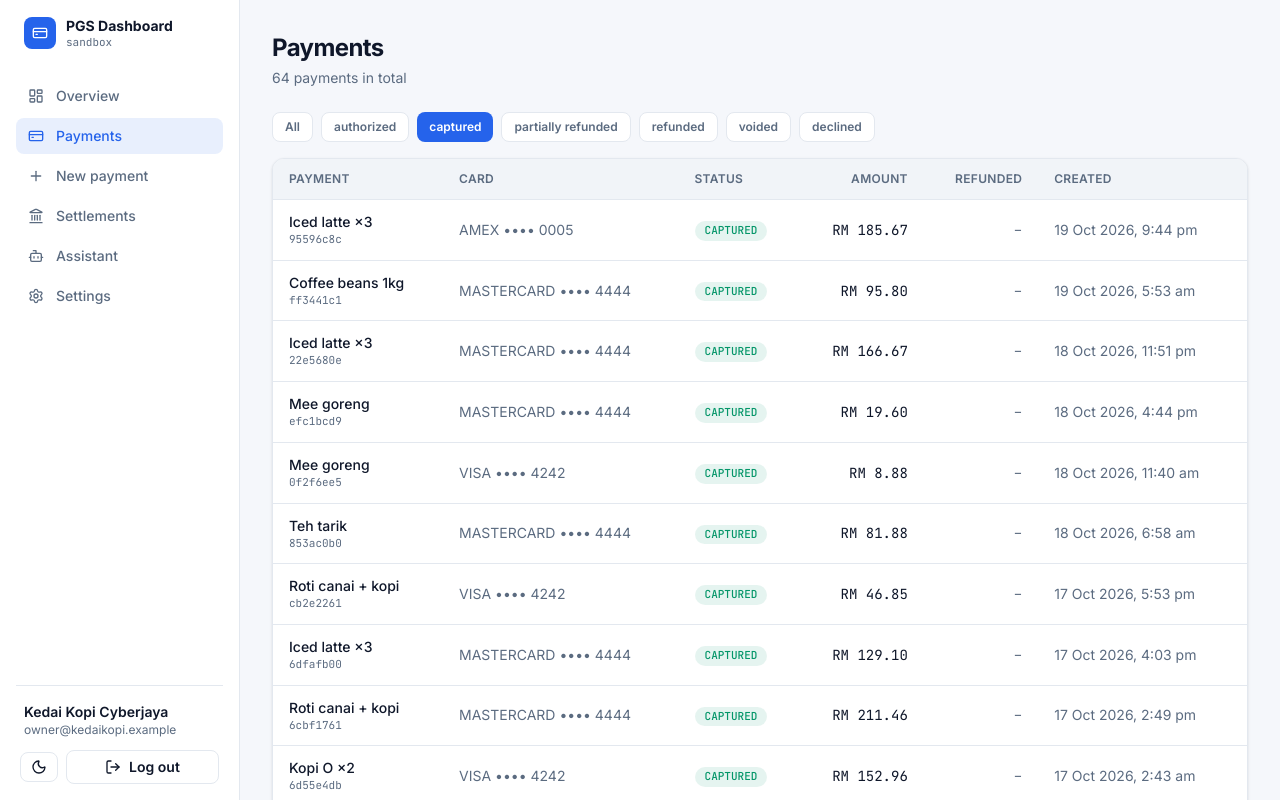
payment detail › surfaces the gateway error when refunding too much
This screenshot has width=1280, height=800.
Click the row "RM" at (760, 230), box [273,200,1247,260]
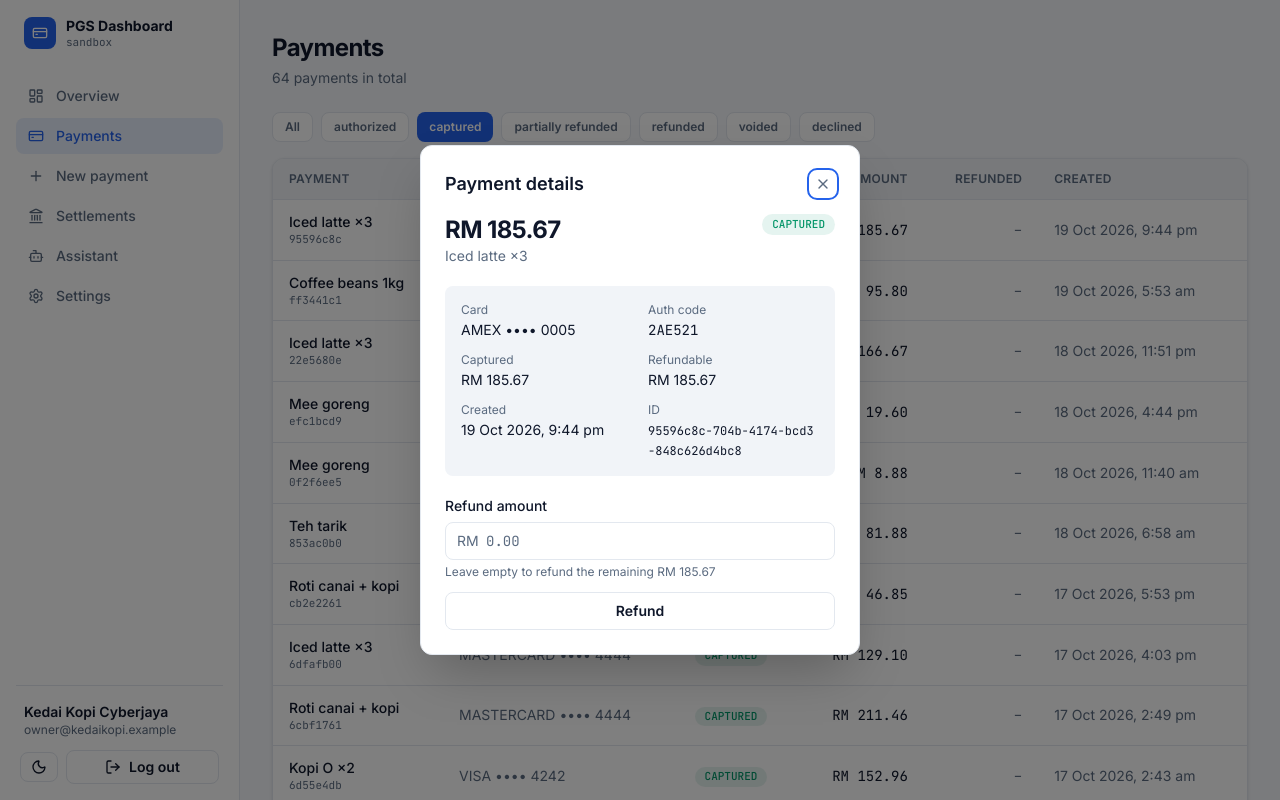
Type "999999" into the field labelled "Refund amount" at (640, 541), box [445,522,835,560]
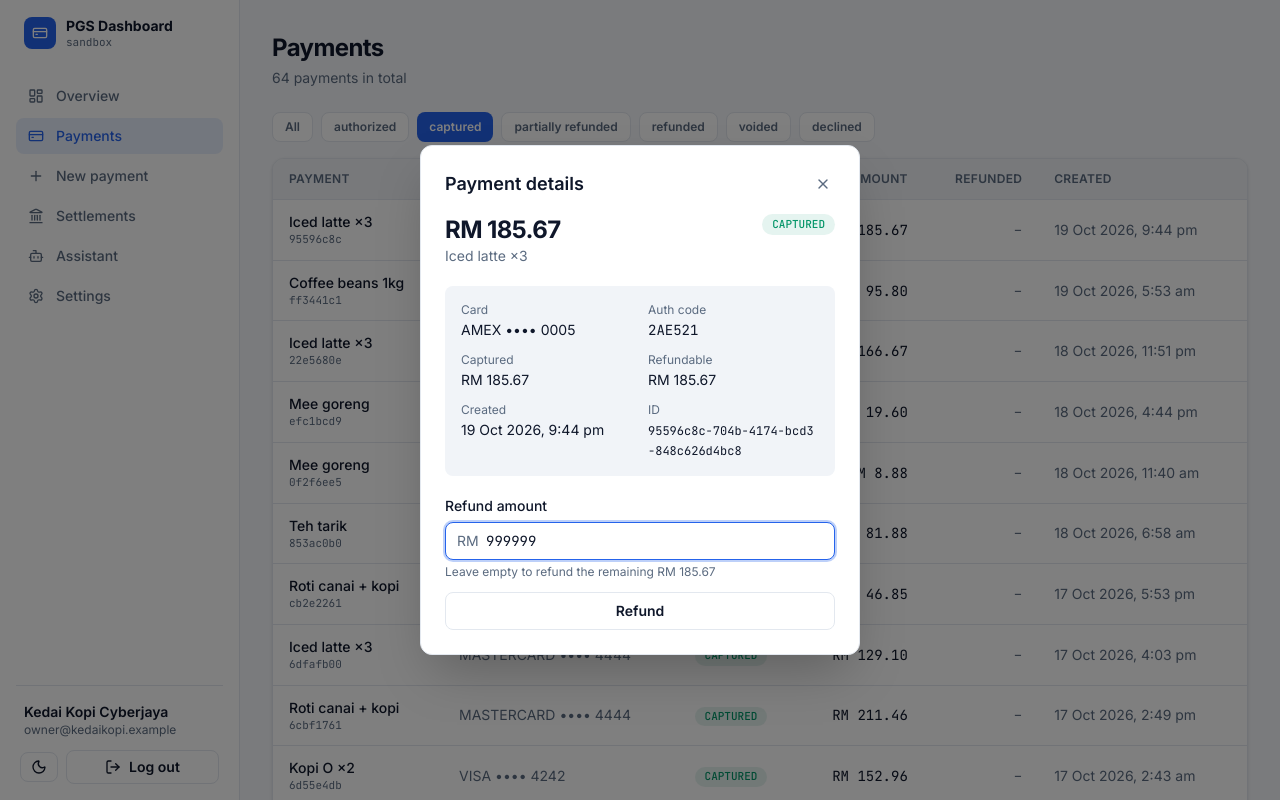
Click the button "Refund" at (640, 611), box [445,592,835,630]
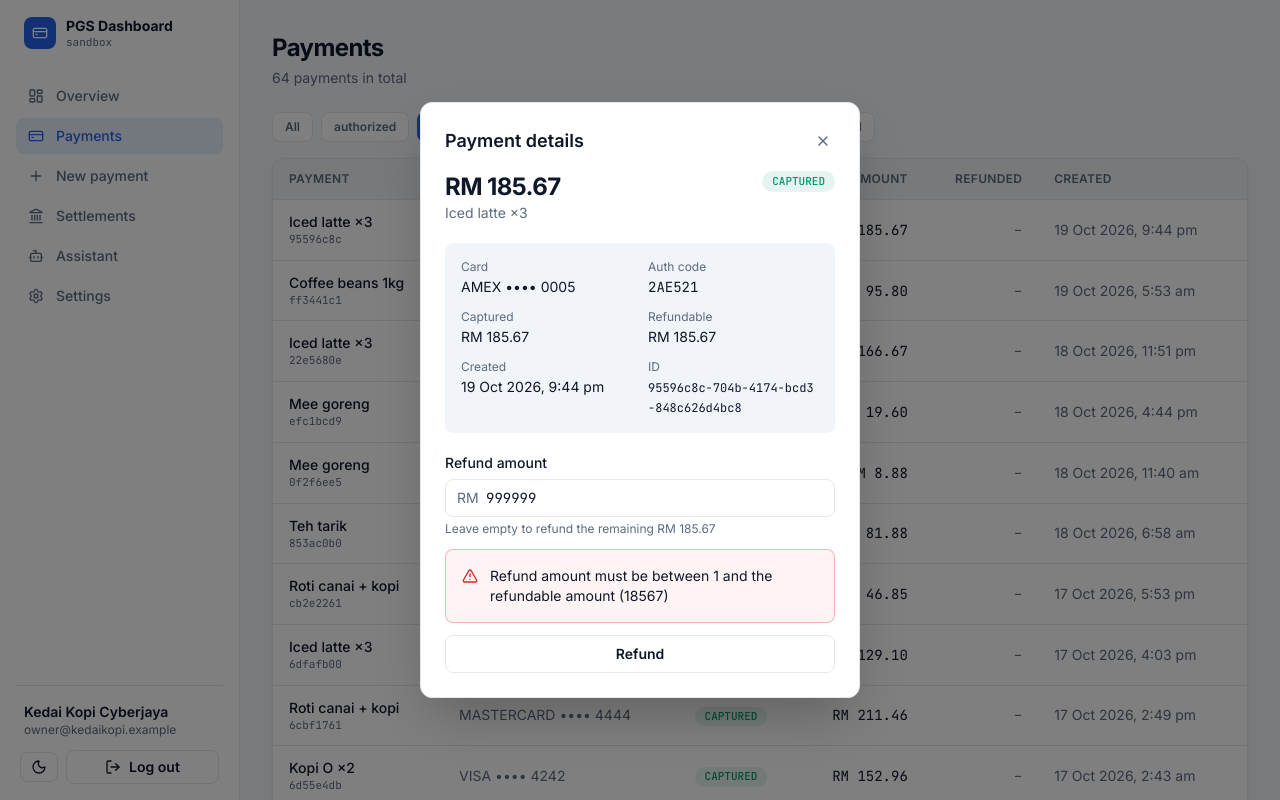
Expected: the message shows "refundable amount", [490,567,772,604]
